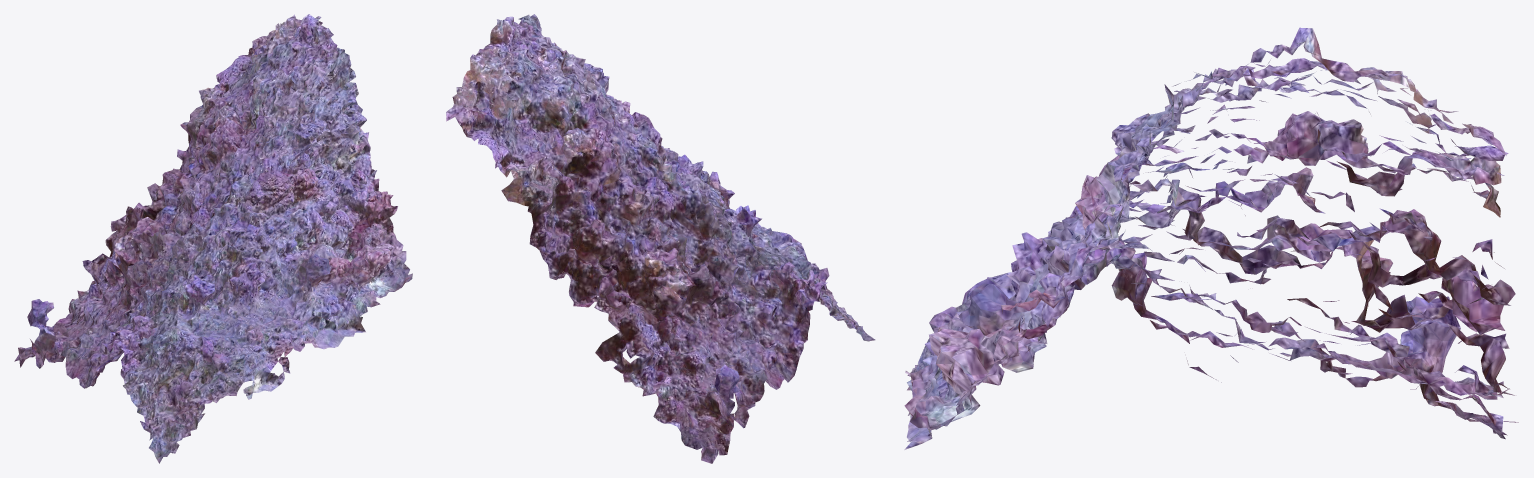
Rendered from Tile_+012_+019_L19_000030.glb.
The picture shows the model from 3 angles, left to right: view 1: azimuth 30°, elevation 25°; view 2: azimuth 150°, elevation 25°; view 3: azimuth 270°, elevation 25°; orthographic projection. The views are drawn at different scales.
Parts seen in each view (by area): view 1: rtc; view 2: rtc; view 3: rtc.
Part boxes in pixels (box(x1,y1,x2,y2)): rtc: box(14, 14, 412, 463); rtc: box(446, 14, 875, 463); rtc: box(904, 27, 1518, 449).
Size of the model in its own units: 52.48 by 61.57 by 53.13.
Materials: 1 (1 with a texture image).
